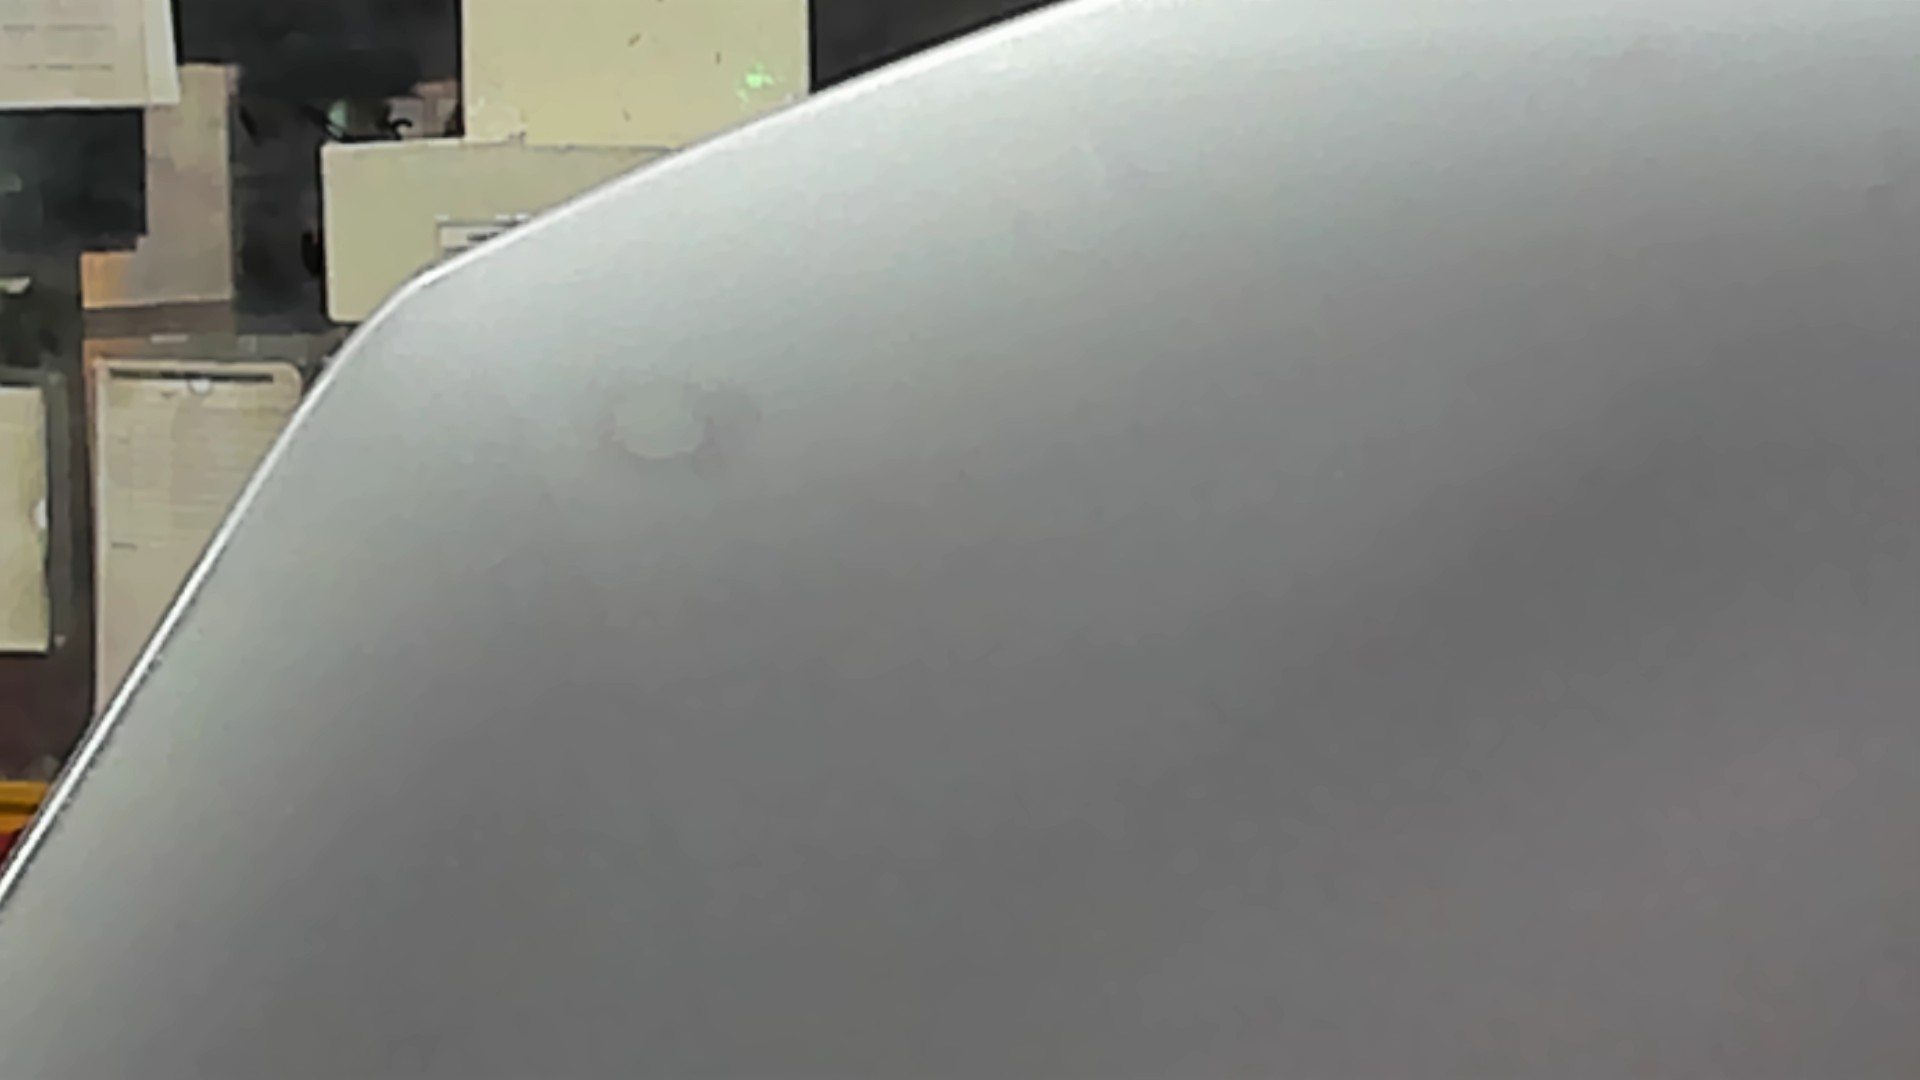capo: (688, 171, 1920, 1080)
